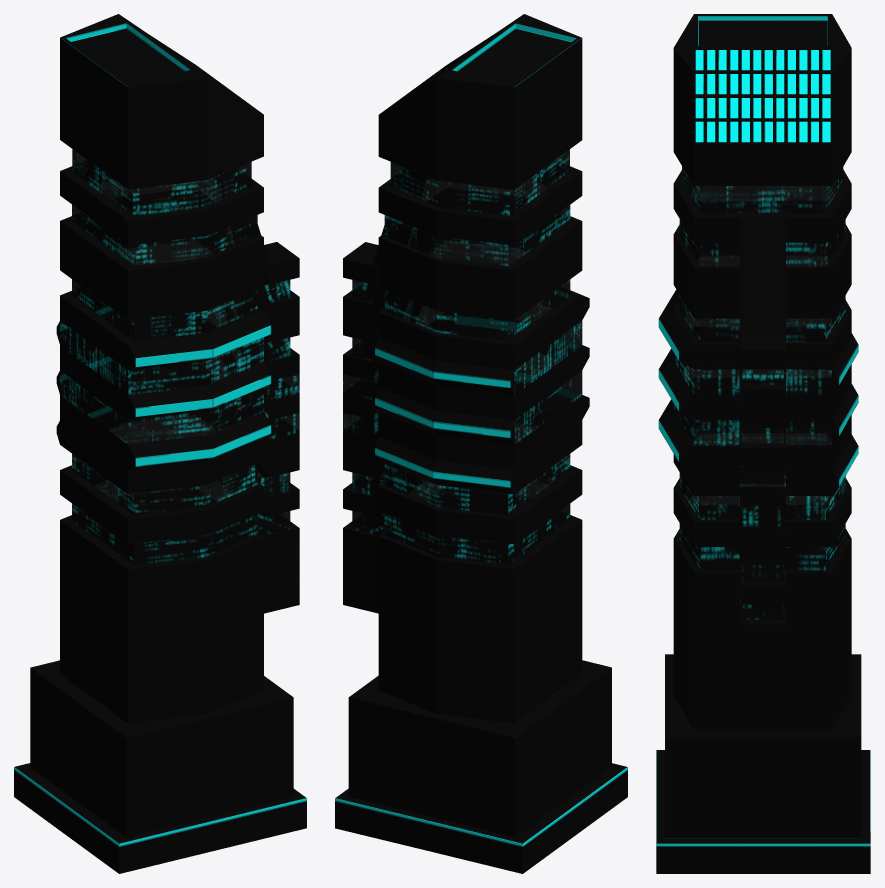
File: Tower_a.obj
The picture shows the model from 3 angles, left to right: view 1: azimuth 30°, elevation 25°; view 2: azimuth 150°, elevation 25°; view 3: azimuth 270°, elevation 25°; orthographic projection.
Visible parts, largest first — view 1: blok_5.001_Cube.000; view 2: blok_5.001_Cube.000; view 3: blok_5.001_Cube.000.
Part boxes in pixels (<box>): blok_5.001_Cube.000: <box>14,14,306,873</box>; blok_5.001_Cube.000: <box>335,14,627,873</box>; blok_5.001_Cube.000: <box>656,14,870,873</box>.
Size of the model in its own units: 34.94 by 115 by 28.73.
3 materials, 3 textured.
